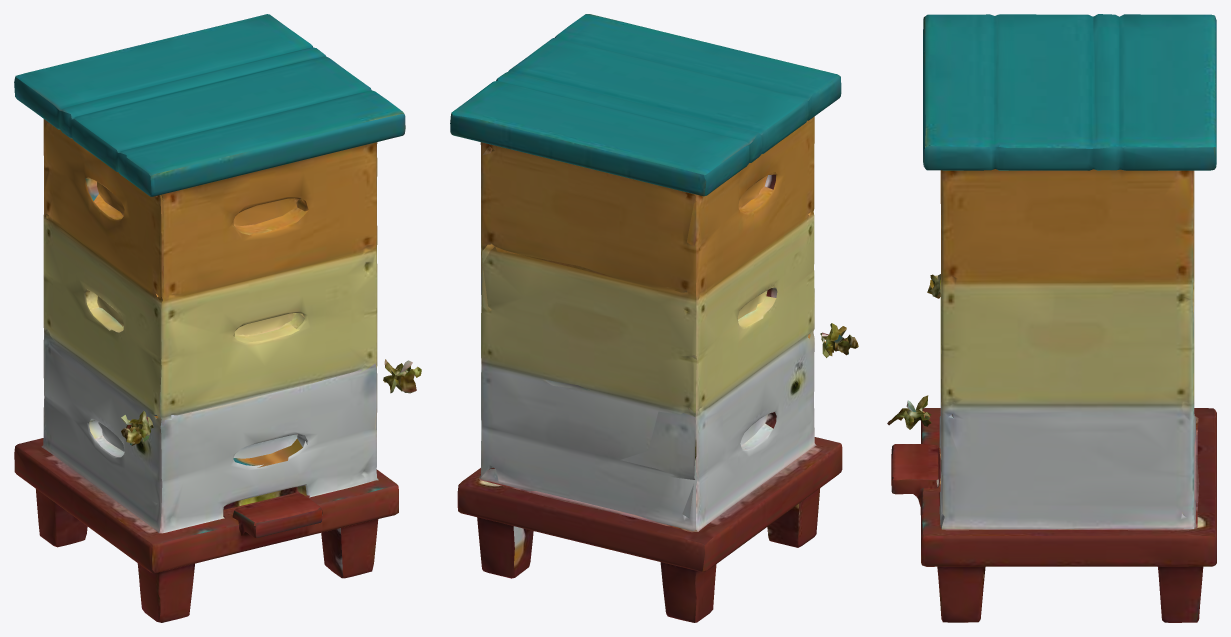
File: beehive.glb
3 views of the same model, side by side, from view 1: azimuth 30°, elevation 25°; view 2: azimuth 150°, elevation 25°; view 3: azimuth 270°, elevation 25° (orthographic). The views are drawn at different scales.
Parts seen in each view (by area): view 1: beehive; view 2: beehive; view 3: beehive.
Boxes of the visible parts, <box> form: beehive: <box>14,14,421,622</box>; beehive: <box>450,14,858,622</box>; beehive: <box>887,14,1216,622</box>.
Size of the model in its own units: 0.6468 by 1 by 0.6083.
1 material, 1 textured.
